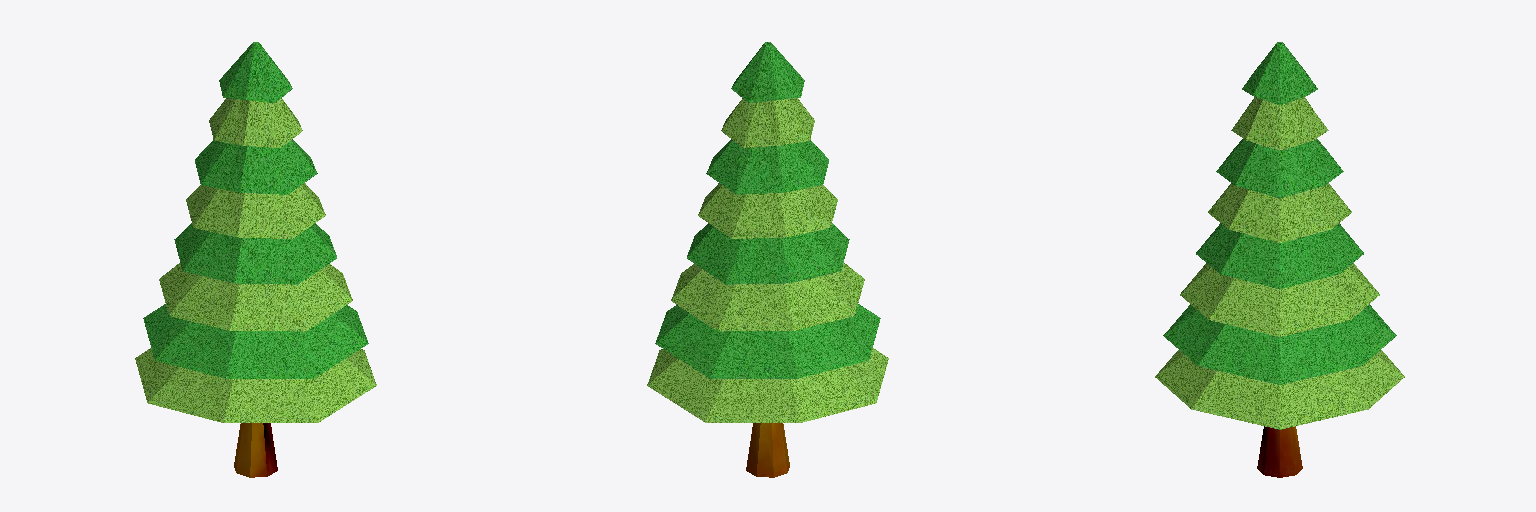
3 renders of one model, left to right at view 1: azimuth 30°, elevation 25°; view 2: azimuth 150°, elevation 25°; view 3: azimuth 270°, elevation 25°, orthographic.
Size of the model in its own units: 15.87 by 29.7 by 15.87.
1 materials, 1 textured.